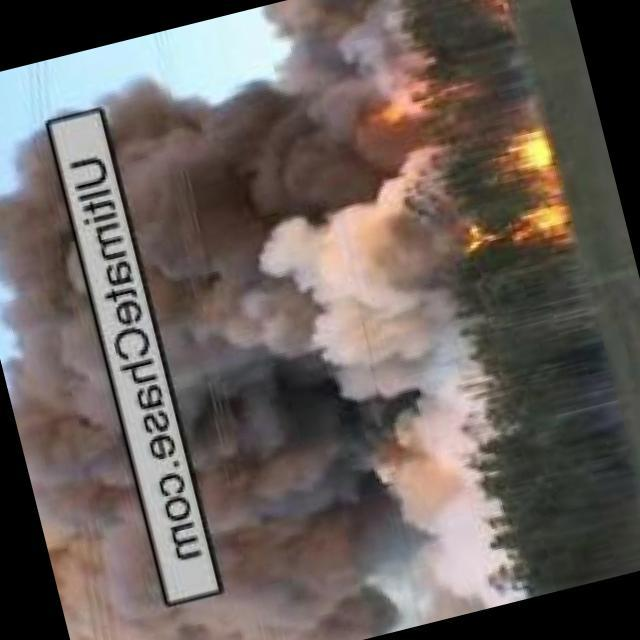Fire: (441, 126, 579, 263), (337, 78, 450, 146)
